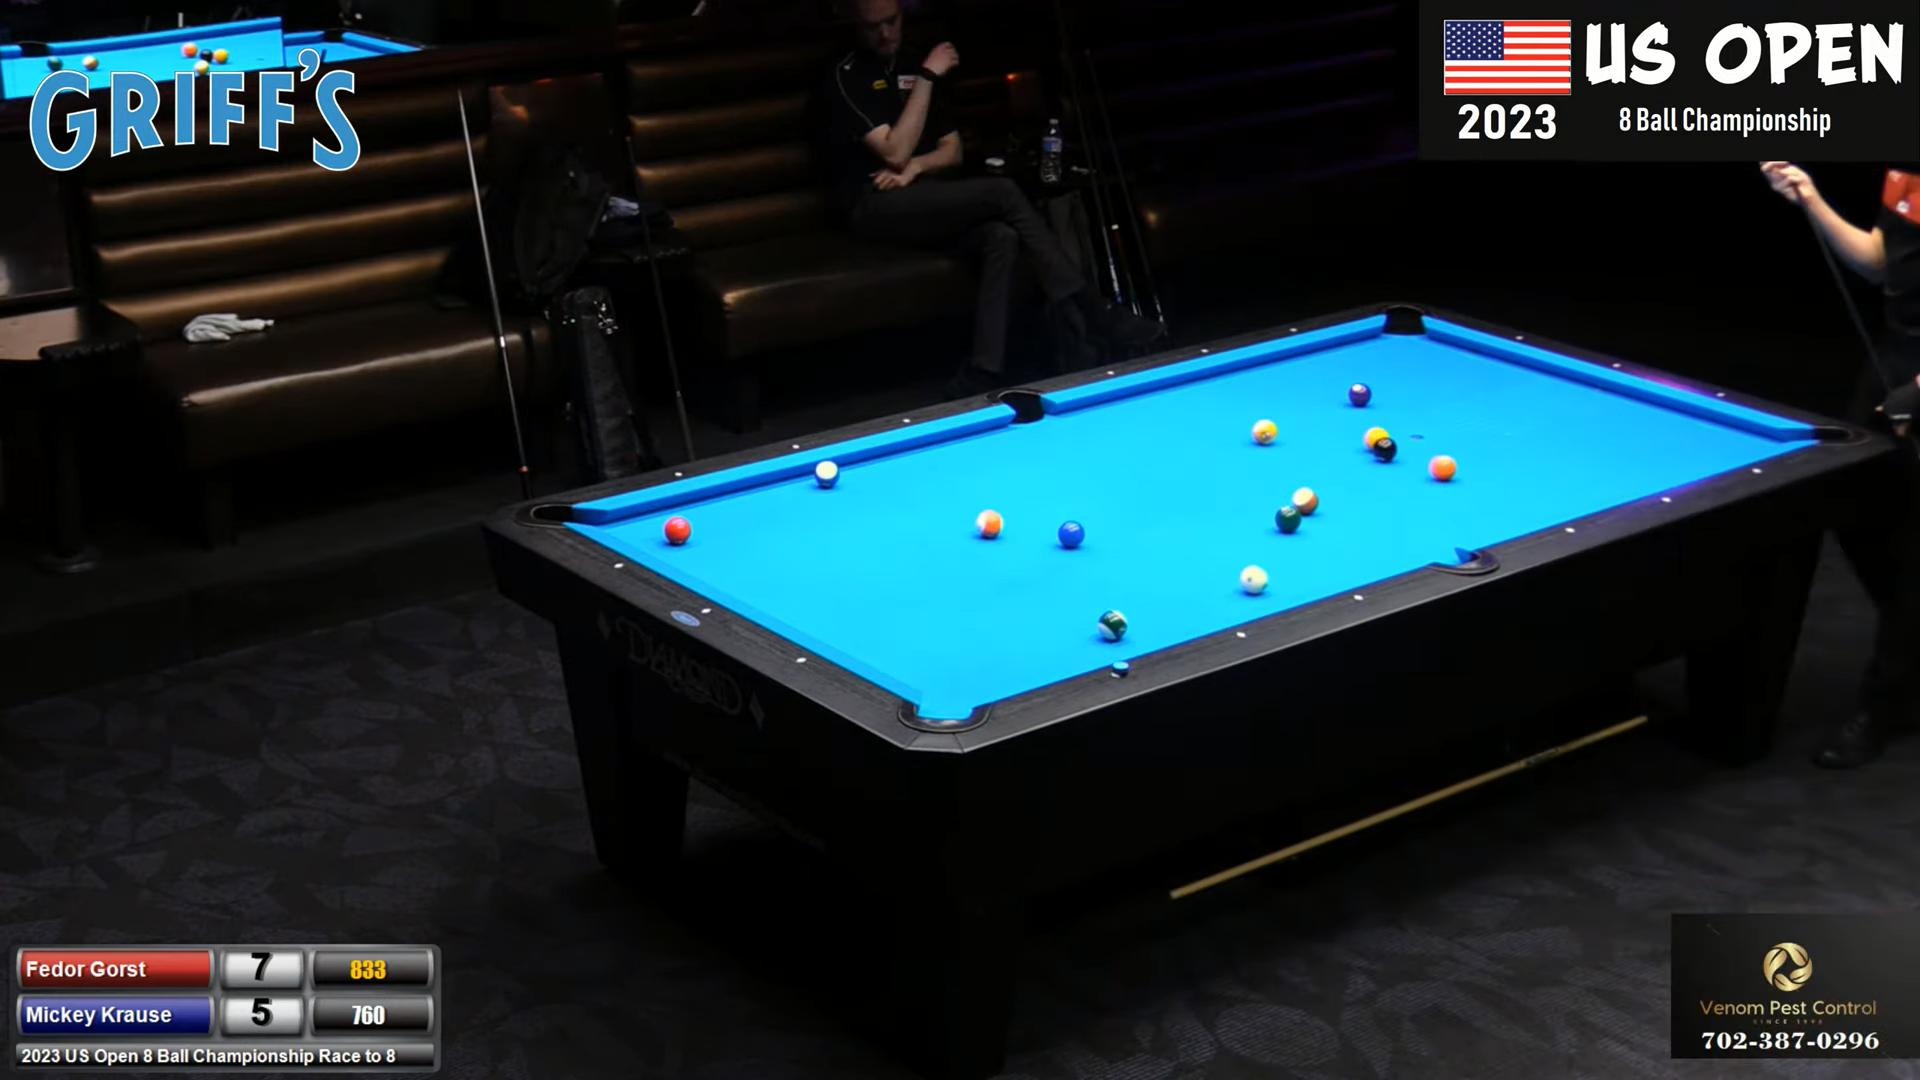Black: (1374, 438, 1396, 462)
Cue: (1240, 564, 1269, 593)
Dot: (790, 653, 812, 667), (695, 604, 717, 618), (785, 439, 807, 454), (895, 414, 918, 429), (1559, 524, 1581, 538), (669, 467, 690, 481), (1283, 323, 1304, 338), (1230, 628, 1251, 642), (1100, 367, 1122, 380), (1193, 344, 1216, 357), (1509, 331, 1531, 344), (1606, 359, 1629, 372), (1746, 464, 1768, 477), (1655, 493, 1677, 506), (1348, 591, 1370, 604), (1104, 669, 1126, 682), (608, 559, 629, 572), (1710, 388, 1731, 401)
Solid: (1429, 455, 1457, 481), (1058, 521, 1085, 547), (663, 517, 691, 543), (1275, 506, 1302, 533), (1365, 427, 1390, 448), (1349, 384, 1371, 406)
Striped: (1098, 611, 1127, 641), (976, 510, 1002, 539), (814, 460, 840, 488), (1292, 487, 1319, 513), (1251, 419, 1278, 444)
